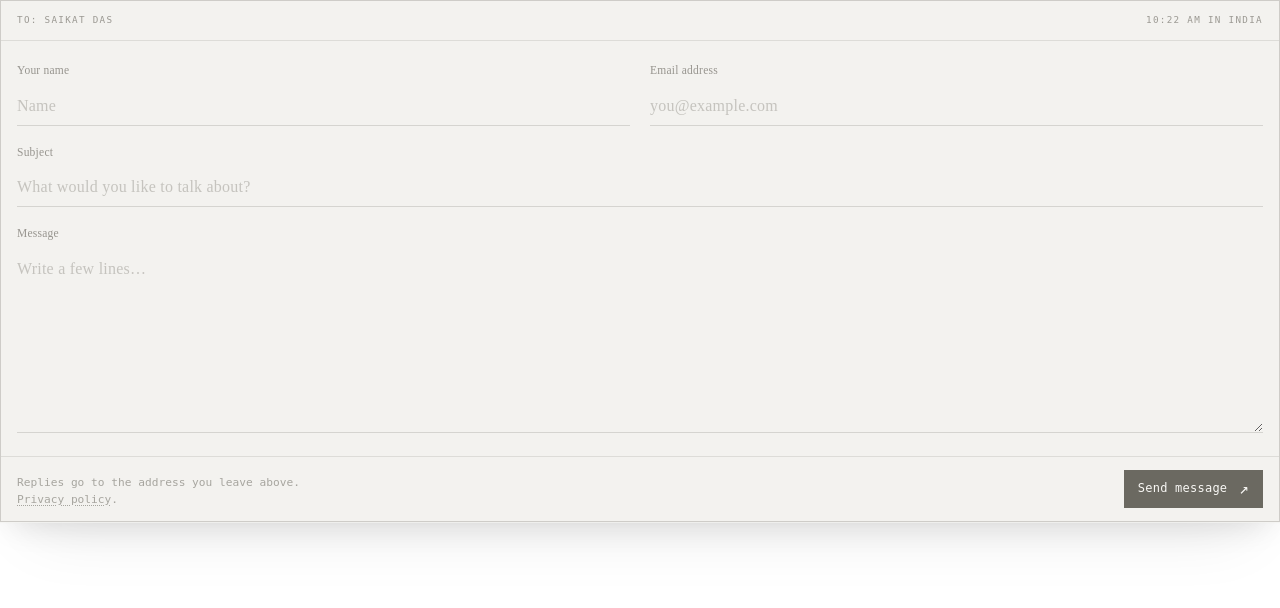
Test case: ContactForm › sends with Ctrl+Enter, shows sending, then sent and clears the fields
This screenshot has width=1280, height=608.
Step 1. Type "Ada Example" into the field labelled "Your name" → (324,106), box [17,87,630,126]
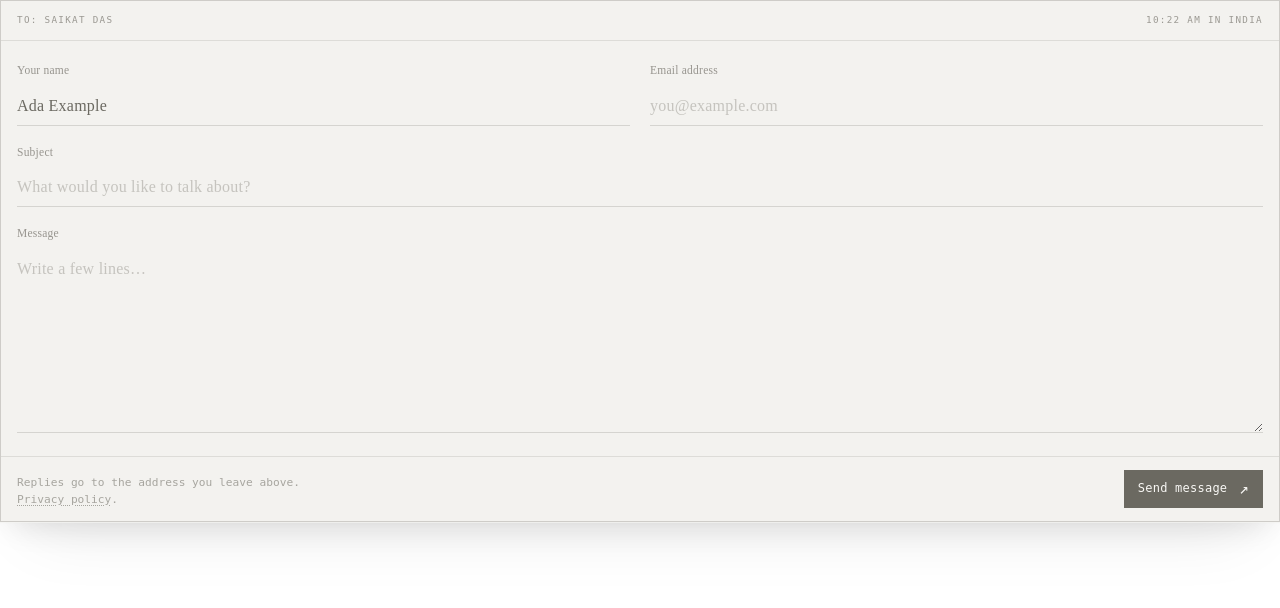
Step 2. Type "ada@example.com" into the field labelled "Email address" → (956,106), box [650,87,1263,126]
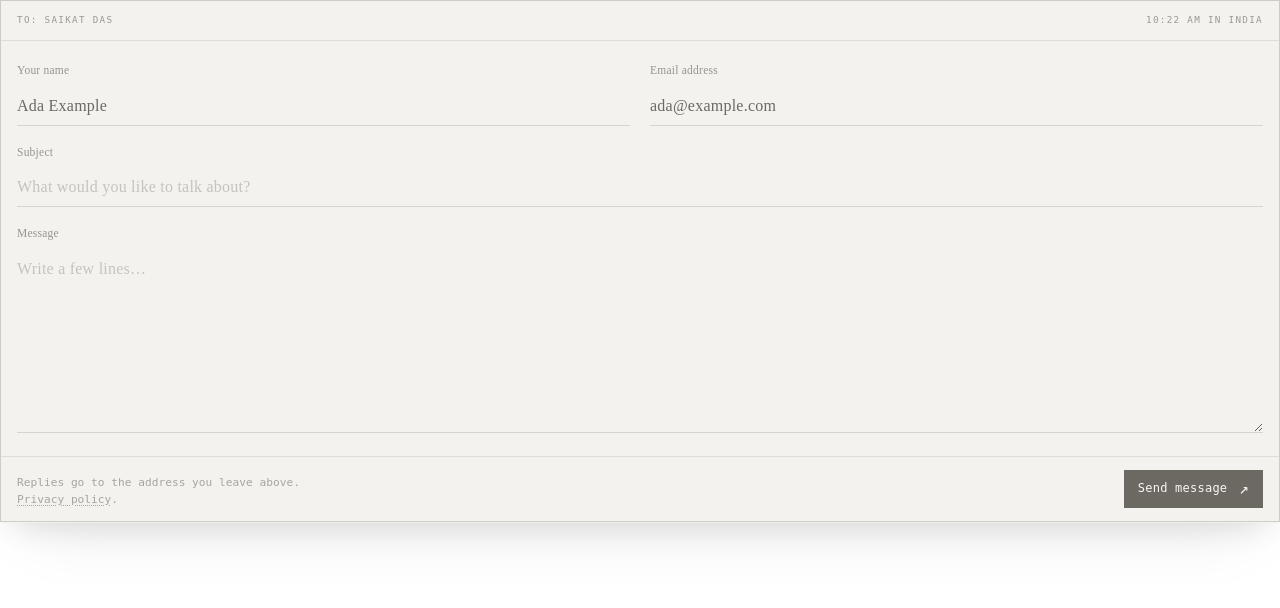
Step 3. Type "A product question" into the field labelled "Subject" → (640,188), box [17,168,1263,207]
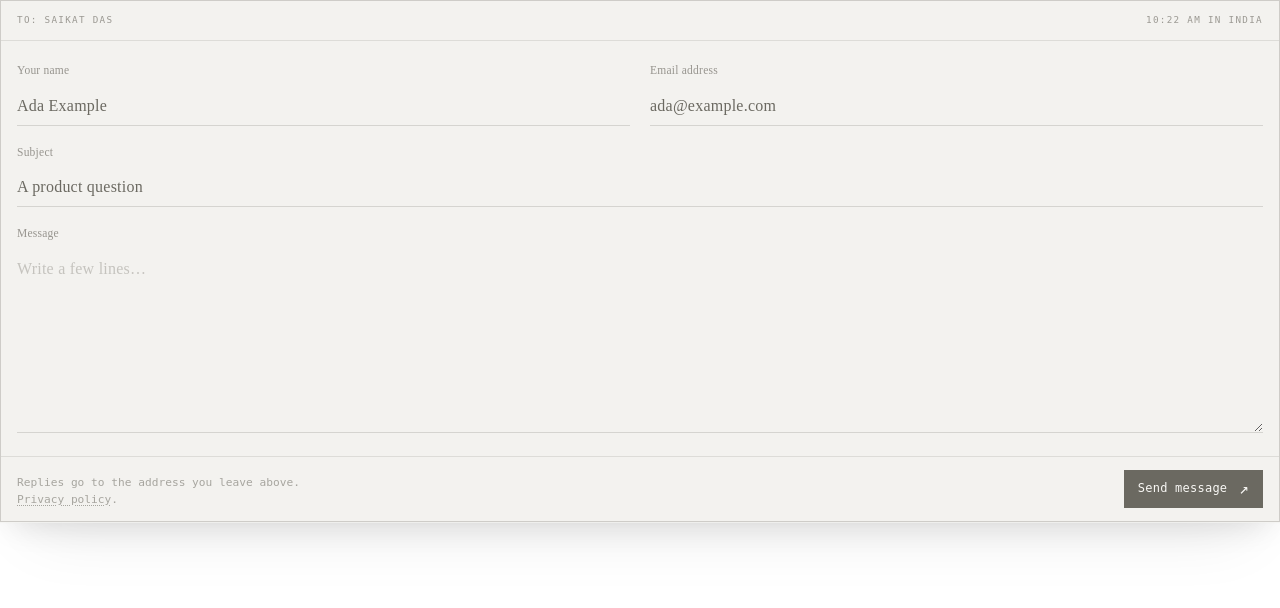
Step 4. Type "I would like to discuss a product idea." into the text box labelled "Message" → (640,341), box [17,250,1263,433]
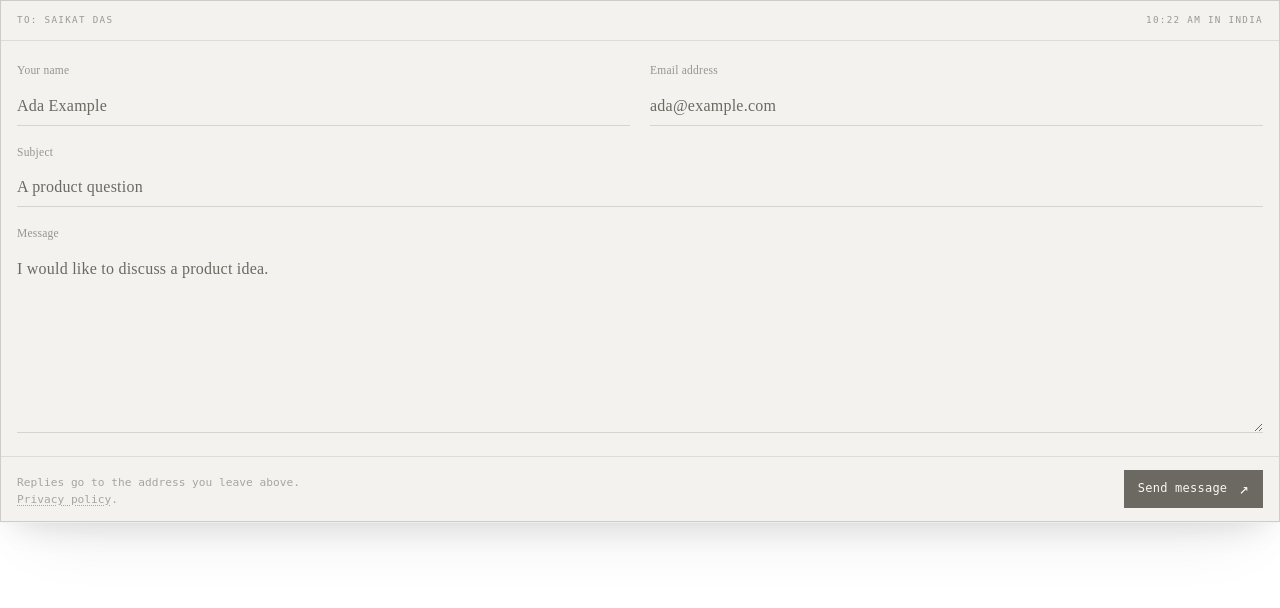
Step 5. Press Enter in the text box labelled "Message", box [17,250,1263,433]
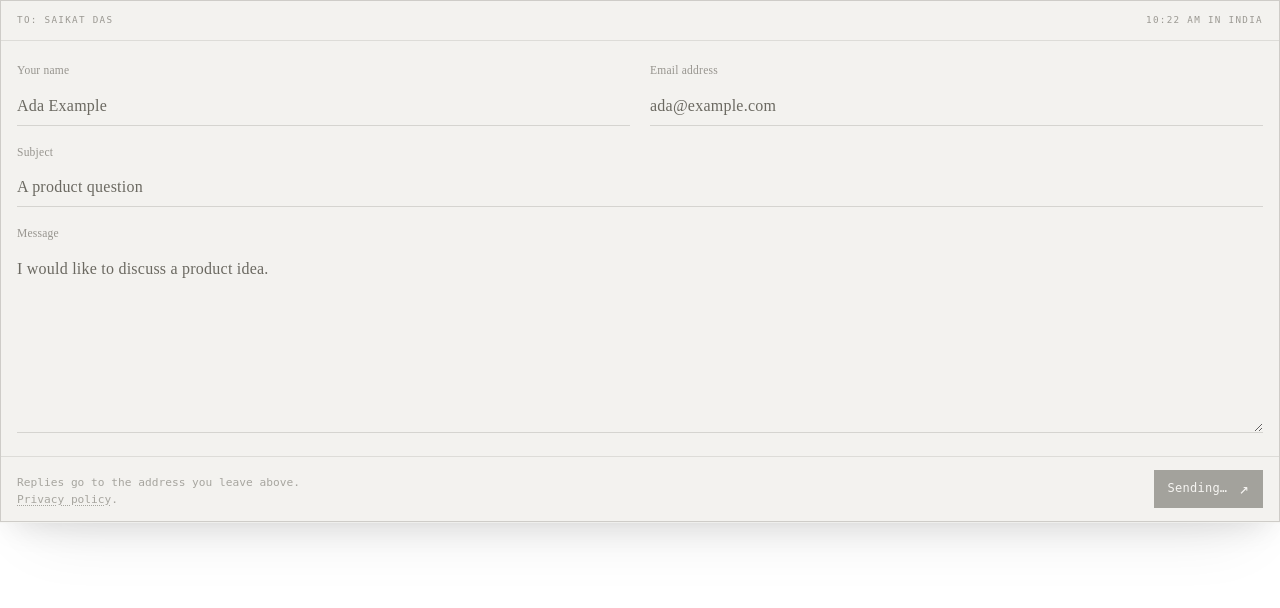
Result: the button "Sending… ↗" is disabled at [1154,470,1263,508]
Step 6. Submit the form
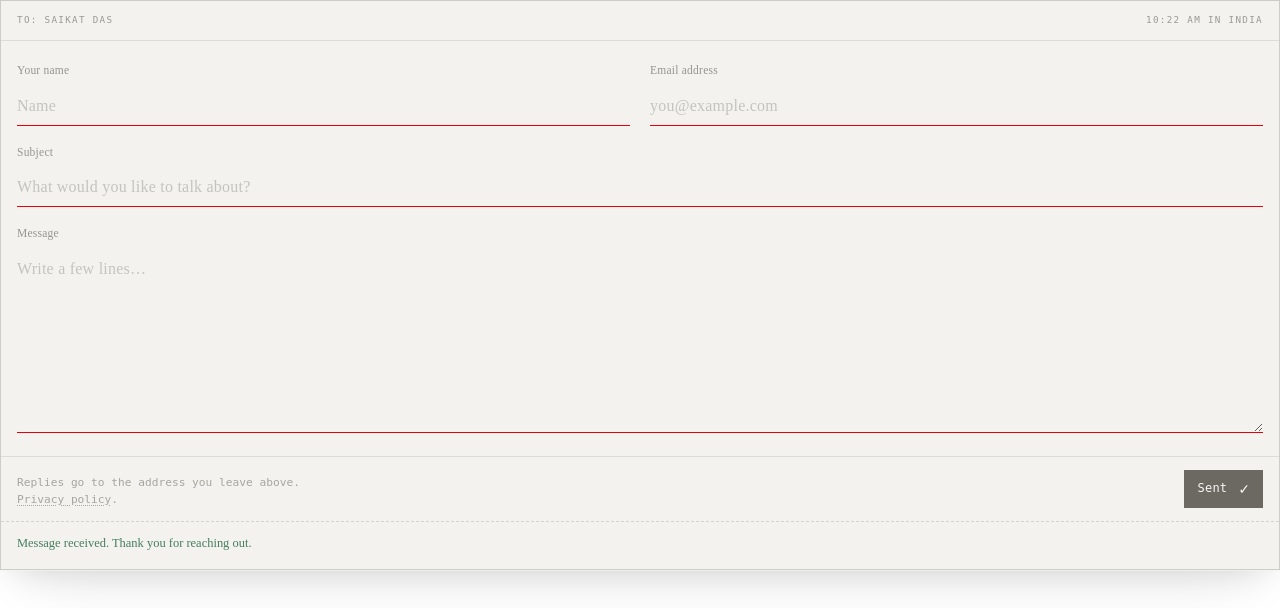
Result: the message shows "Message received" at [17,536,252,550]
Result: the field labelled "Your name" is empty at [17,87,630,126]
